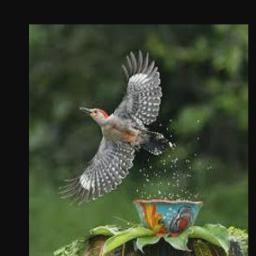Woodpecker: (58, 51, 170, 204)
